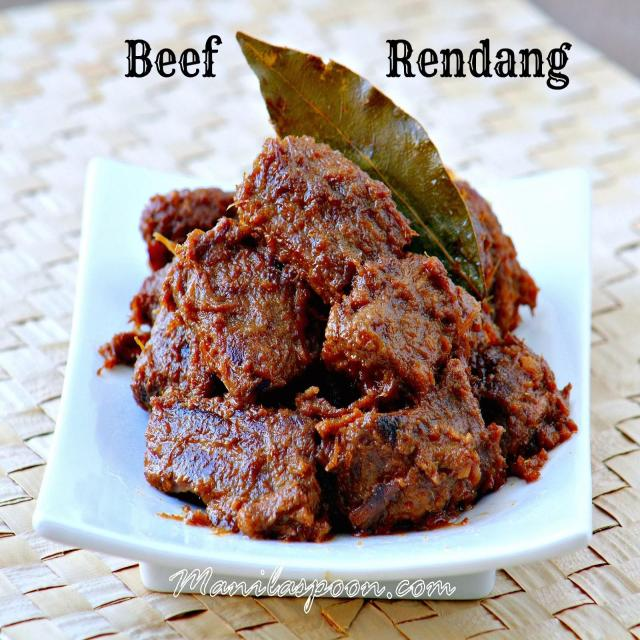Rendang: (103, 99, 576, 571)
